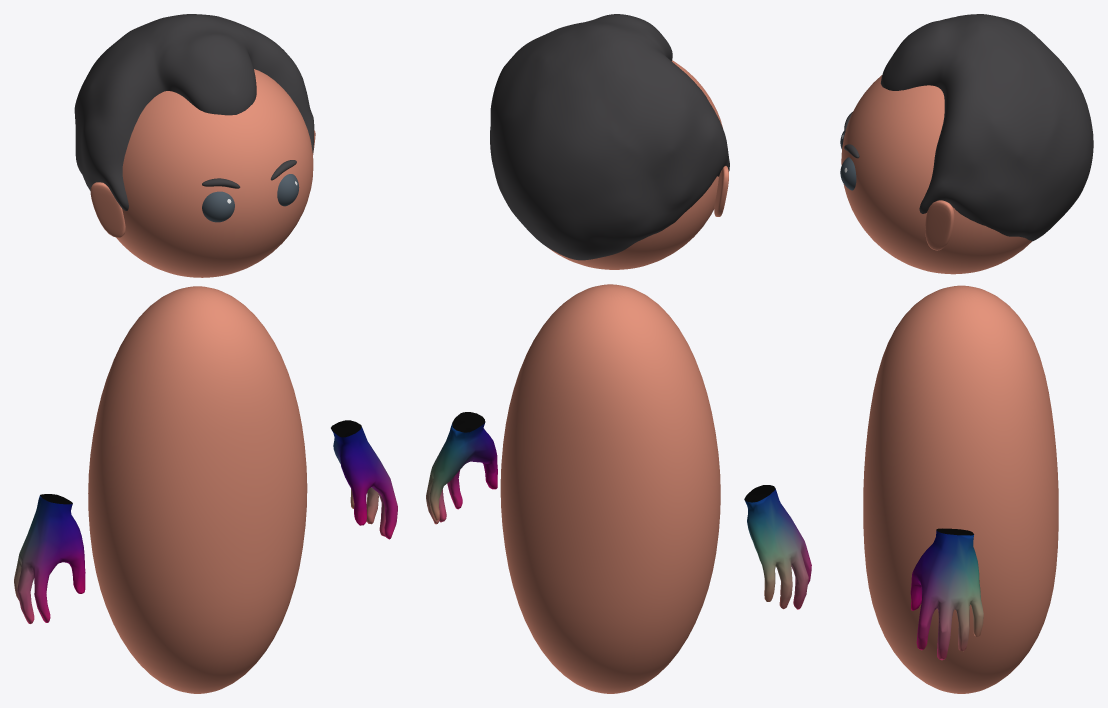
The model's file is LucianFreud.fbx.
The picture shows the model from 3 angles, left to right: view 1: azimuth 30°, elevation 25°; view 2: azimuth 150°, elevation 25°; view 3: azimuth 270°, elevation 25°; orthographic projection.
Visible parts, largest first — view 1: Body.018, Head.012, Hair.008, Hands.012, Eyes.012, Cube.018; view 2: Body.018, Hair.008, Hands.012, Head.012; view 3: Body.018, Hair.008, Head.012, Hands.012, Cube.018, Eyes.012.
Boxes of the visible parts, bbox=[...] form: Body.018: bbox=[88, 286, 307, 693]; Head.012: bbox=[116, 69, 313, 277]; Hair.008: bbox=[74, 14, 314, 210]; Hands.012: bbox=[14, 420, 397, 623]; Eyes.012: bbox=[202, 174, 299, 222]; Cube.018: bbox=[90, 130, 315, 237]; Body.018: bbox=[500, 284, 720, 693]; Hair.008: bbox=[490, 14, 729, 260]; Hands.012: bbox=[426, 412, 811, 609]; Head.012: bbox=[549, 60, 722, 269]; Body.018: bbox=[863, 285, 1058, 693]; Hair.008: bbox=[880, 14, 1093, 241]; Head.012: bbox=[841, 75, 1031, 274]; Hands.012: bbox=[910, 528, 983, 660]; Cube.018: bbox=[925, 200, 954, 250]; Eyes.012: bbox=[840, 131, 856, 190].
Bounding box in the file's own units: 383 × 648 × 223.
